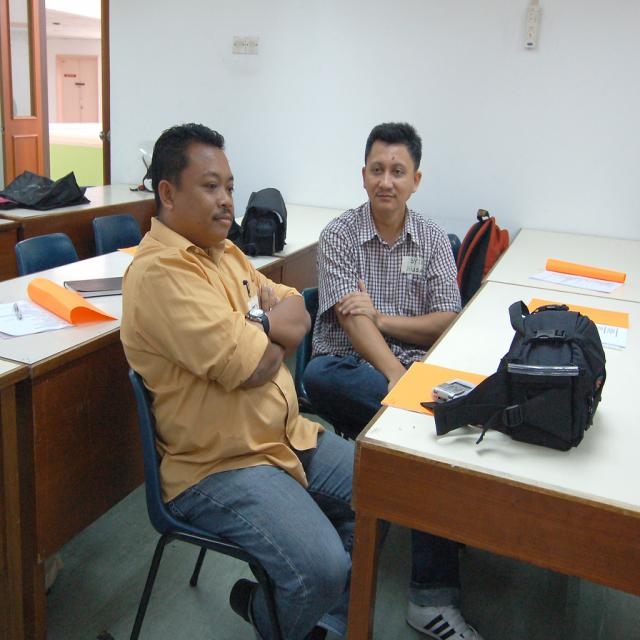chair: (125, 365, 268, 639), (456, 212, 510, 307), (14, 232, 79, 276), (92, 214, 142, 256)
desk: (354, 240, 636, 637)
person: (121, 125, 358, 640), (300, 121, 462, 442)
